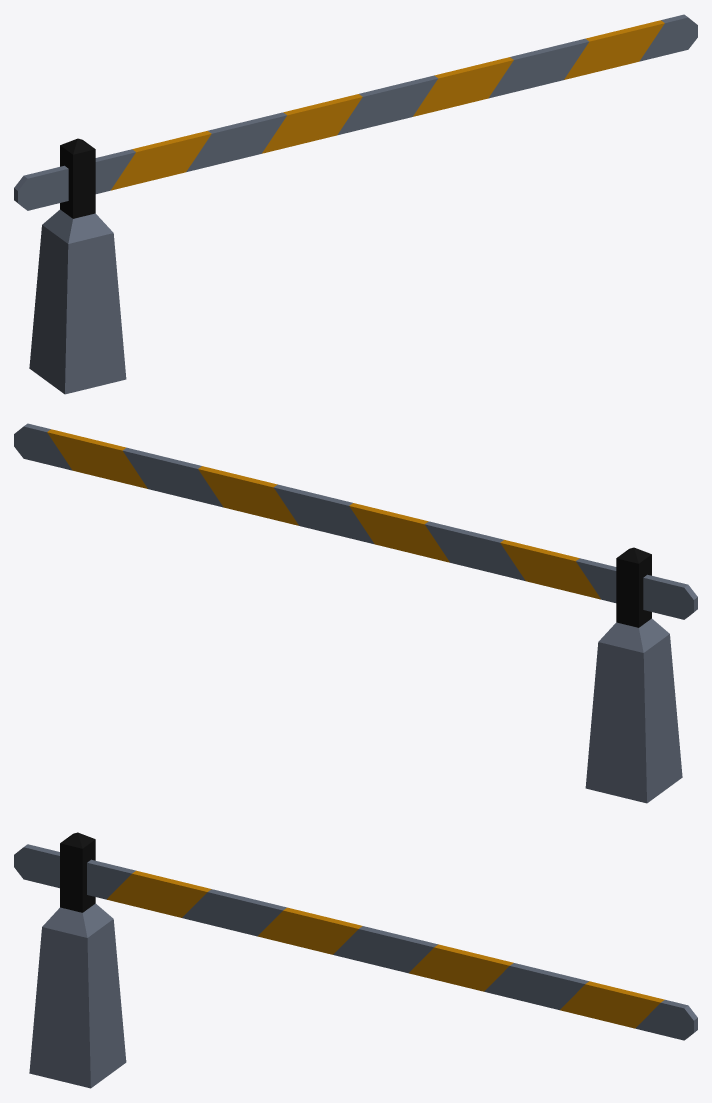
File: Barrier 2.fbx
The picture shows the model from 3 angles, top to bottom: view 1: azimuth 30°, elevation 25°; view 2: azimuth 150°, elevation 25°; view 3: azimuth 330°, elevation 25°; orthographic projection.
Visible parts, largest first — view 1: Barrier_02; view 2: Barrier_02; view 3: Barrier_02.
Boxes of the visible parts, box(x1,y1,x2,y2) form: Barrier_02: box(14, 14, 697, 394); Barrier_02: box(14, 423, 697, 803); Barrier_02: box(14, 832, 697, 1088).
Bounding box in the file's own units: 265 × 87.6 × 23.93.
